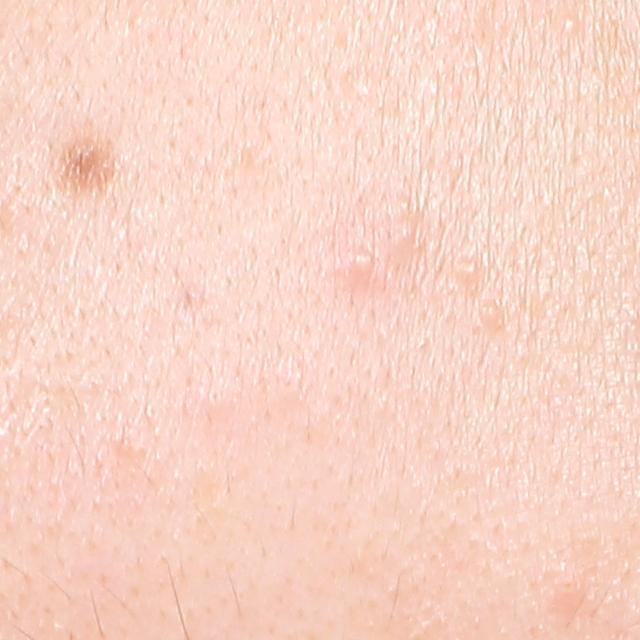comedo: (453, 257, 486, 287), (560, 14, 582, 39)
